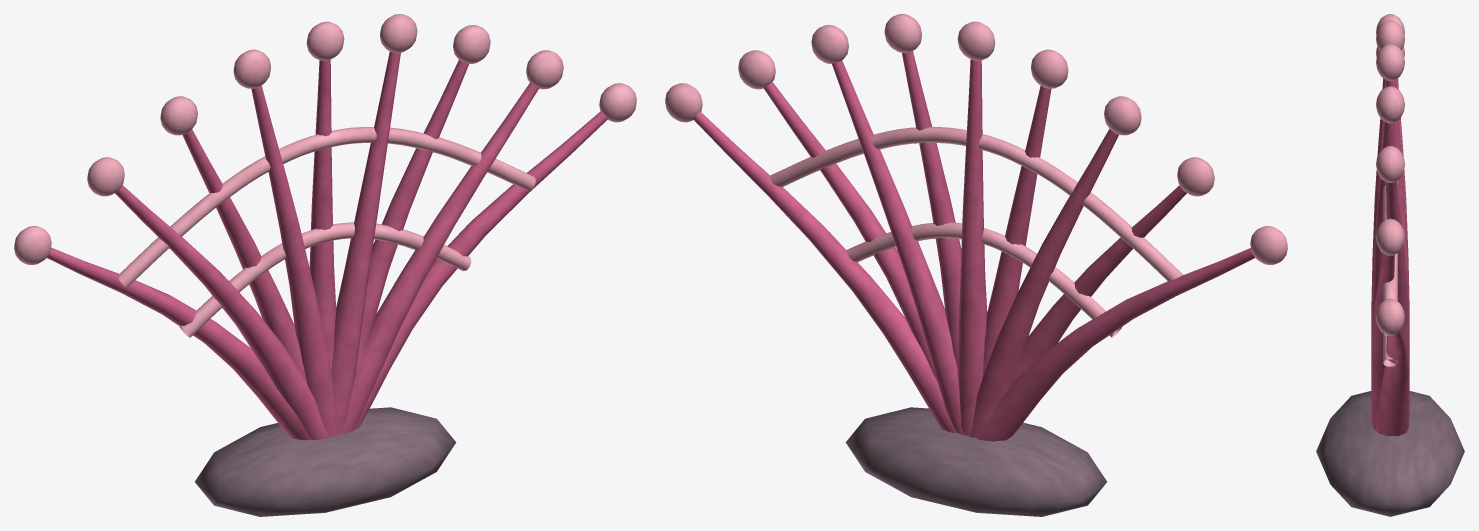
File: coral_fan.glb
3 views of the same model, side by side, from view 1: azimuth 30°, elevation 25°; view 2: azimuth 150°, elevation 25°; view 3: azimuth 270°, elevation 25° (orthographic). The views are drawn at different scales.
Parts seen in each view (by area): view 1: coral_fan_textured_mesh; view 2: coral_fan_textured_mesh; view 3: coral_fan_textured_mesh.
Boxes of the visible parts, left/top/right/bottom form: coral_fan_textured_mesh: left=14, top=14, right=636, bottom=516; coral_fan_textured_mesh: left=665, top=14, right=1287, bottom=516; coral_fan_textured_mesh: left=1316, top=14, right=1464, bottom=516.
Size of the model in its own units: 4.97 by 3.65 by 1.12.
1 material, 1 textured.
